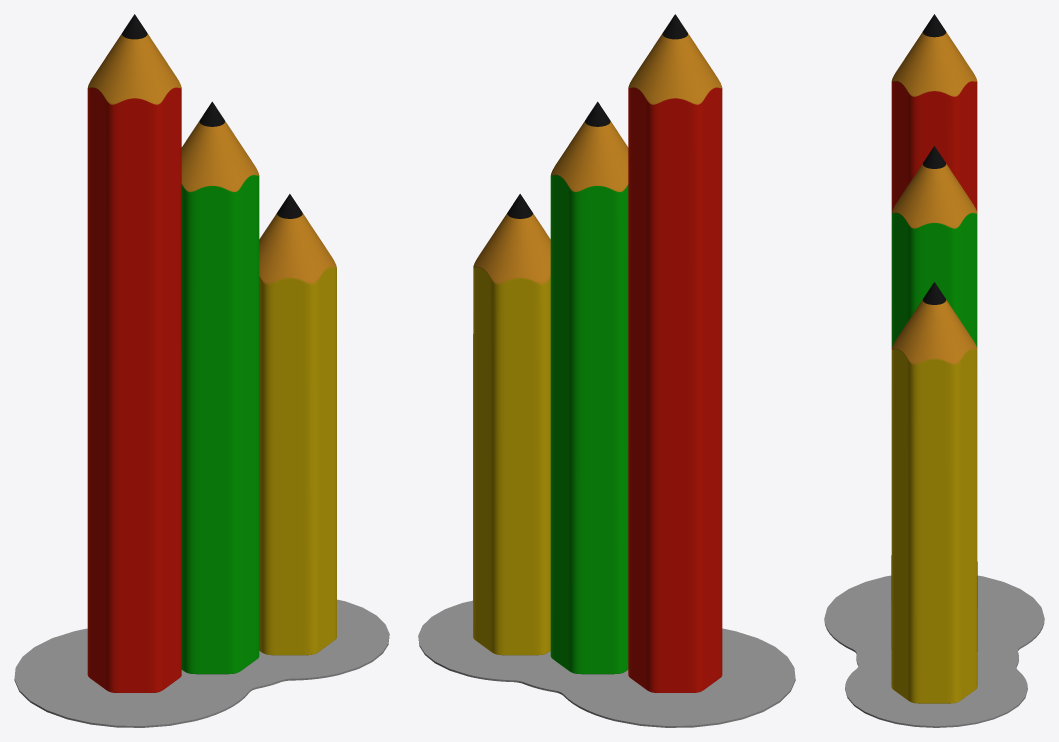
The model's file is BJP.fbx.
3 renders of one model, left to right at view 1: azimuth 30°, elevation 25°; view 2: azimuth 150°, elevation 25°; view 3: azimuth 270°, elevation 25°, orthographic. The views are drawn at different scales.
Parts seen in each view (by area): view 1: pen_07, pen_05, pen_09, base, pen_08, pen_03, pen_04; view 2: pen_07, pen_05, pen_09, base, pen_08, pen_03, pen_04; view 3: pen_09, base, pen_05, pen_07, pen_03, pen_04, pen_08.
Part boxes in pixels (x1=…): pen_07: x1=87, y1=87, x2=181, y2=692; pen_05: x1=181, y1=175, x2=259, y2=674; pen_09: x1=259, y1=267, x2=336, y2=655; base: x1=14, y1=599, x2=389, y2=727; pen_08: x1=88, y1=33, x2=181, y2=104; pen_03: x1=181, y1=121, x2=258, y2=191; pen_04: x1=259, y1=213, x2=336, y2=284; pen_07: x1=628, y1=87, x2=722, y2=692; pen_05: x1=550, y1=175, x2=628, y2=674; pen_09: x1=473, y1=267, x2=550, y2=655; base: x1=418, y1=600, x2=795, y2=727; pen_08: x1=628, y1=33, x2=721, y2=104; pen_03: x1=551, y1=121, x2=628, y2=191; pen_04: x1=473, y1=213, x2=550, y2=284; pen_09: x1=891, y1=349, x2=977, y2=703; base: x1=824, y1=575, x2=1044, y2=727; pen_05: x1=891, y1=213, x2=977, y2=651; pen_07: x1=891, y1=81, x2=977, y2=606; pen_03: x1=891, y1=163, x2=977, y2=228; pen_04: x1=891, y1=299, x2=977, y2=364; pen_08: x1=892, y1=32, x2=976, y2=96.
Size of the model in its own units: 98.16 by 179 by 59.04.
